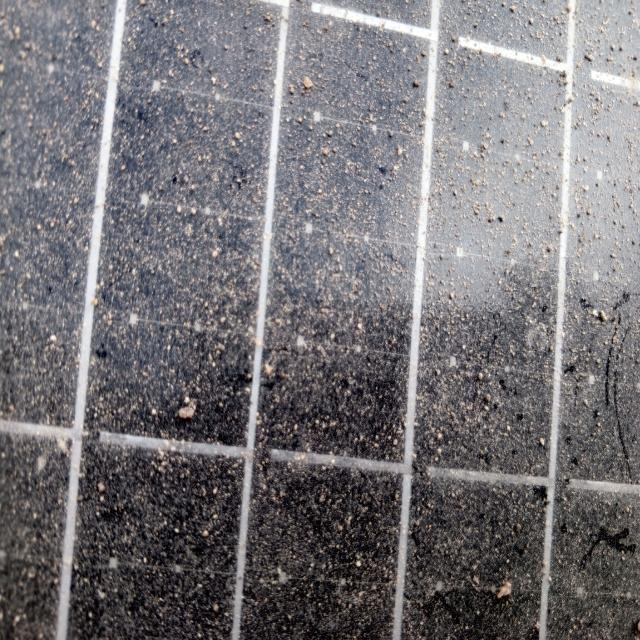Anomaly Solar Panel: (5, 0, 640, 640)
Surface Contaminant: (60, 132, 623, 639)
